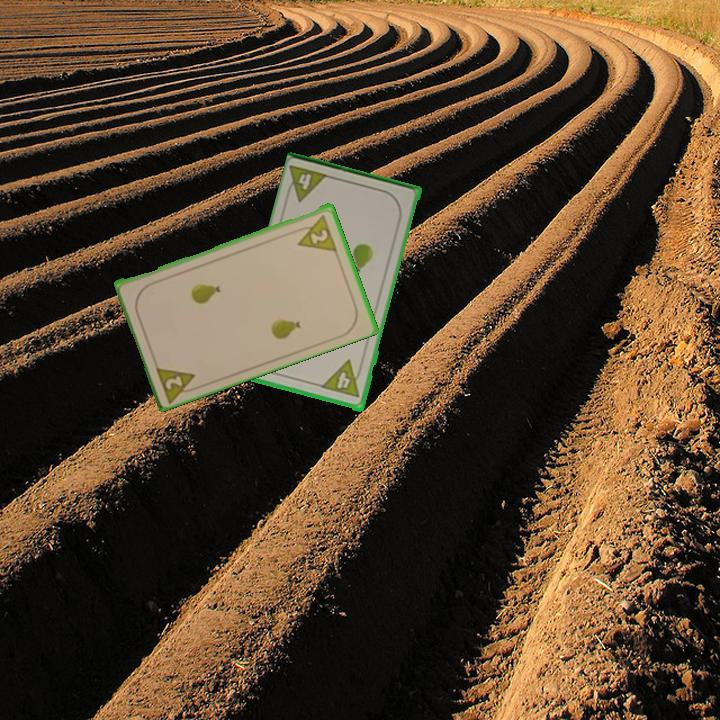2p: (152, 361, 203, 404), (291, 211, 340, 254)
4p: (282, 162, 332, 205), (319, 357, 366, 401)
